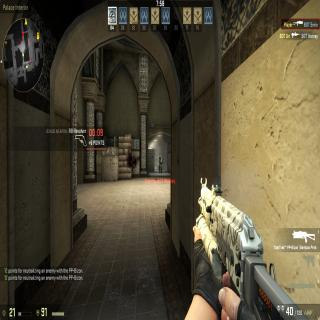CT-Body: (158, 156, 162, 173)
CT-Head: (159, 156, 161, 160)
